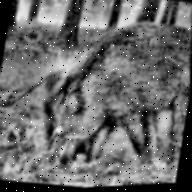boar: (32, 0, 192, 175)
